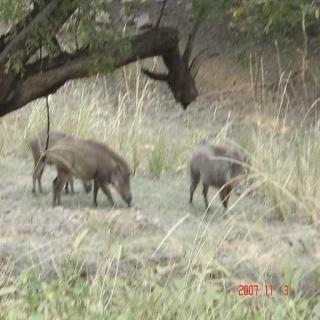Pig: (52, 134, 132, 216), (185, 147, 267, 220)
